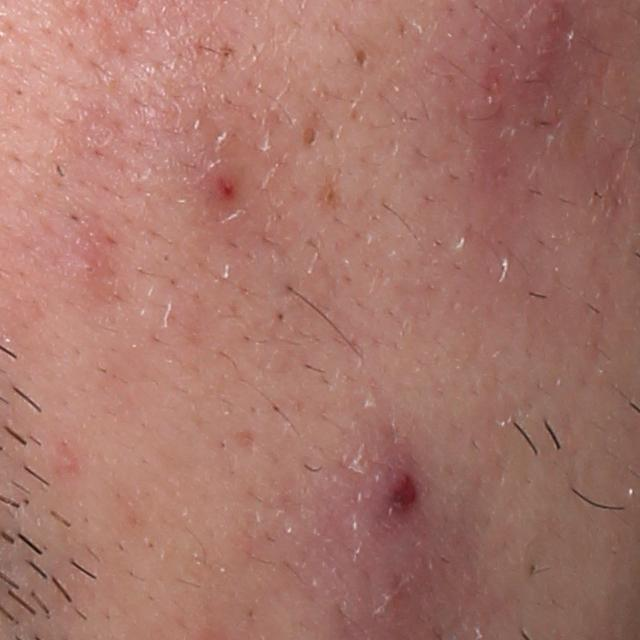comedo: (298, 120, 321, 151), (353, 48, 373, 69)
papule: (211, 165, 244, 208)
